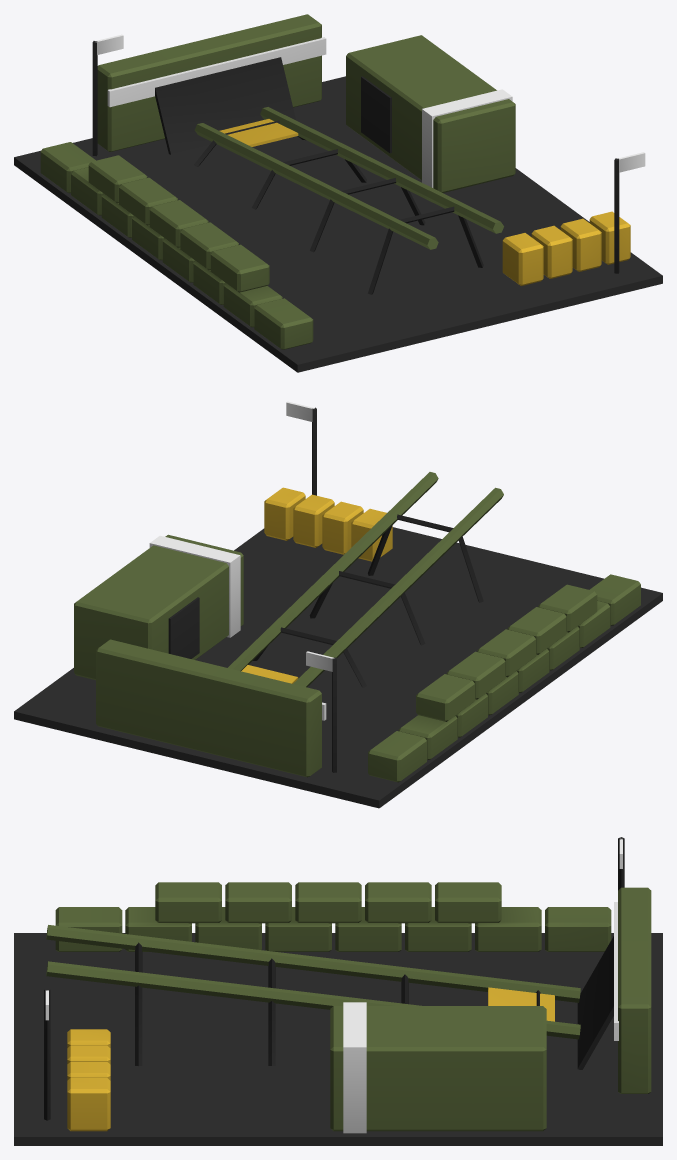
The model's file is ua-missile-site.glb.
The picture shows the model from 3 angles, top to bottom: view 1: azimuth 30°, elevation 25°; view 2: azimuth 150°, elevation 25°; view 3: azimuth 270°, elevation 25°; orthographic projection. The views are drawn at different scales.
Parts seen in each view (by area): view 1: ua-missile-site; view 2: ua-missile-site; view 3: ua-missile-site.
Part boxes in pixels (x1=…): ua-missile-site: x1=14, y1=14, x2=662, y2=372; ua-missile-site: x1=14, y1=401, x2=662, y2=808; ua-missile-site: x1=14, y1=837, x2=662, y2=1145.
Size of the model in its own units: 2.9 by 0.92 by 3.9.
